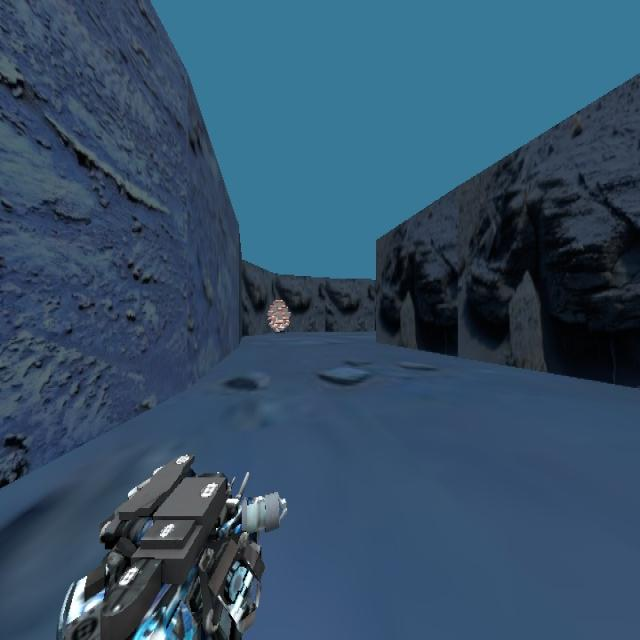Mushroom: (266, 297, 290, 332)
